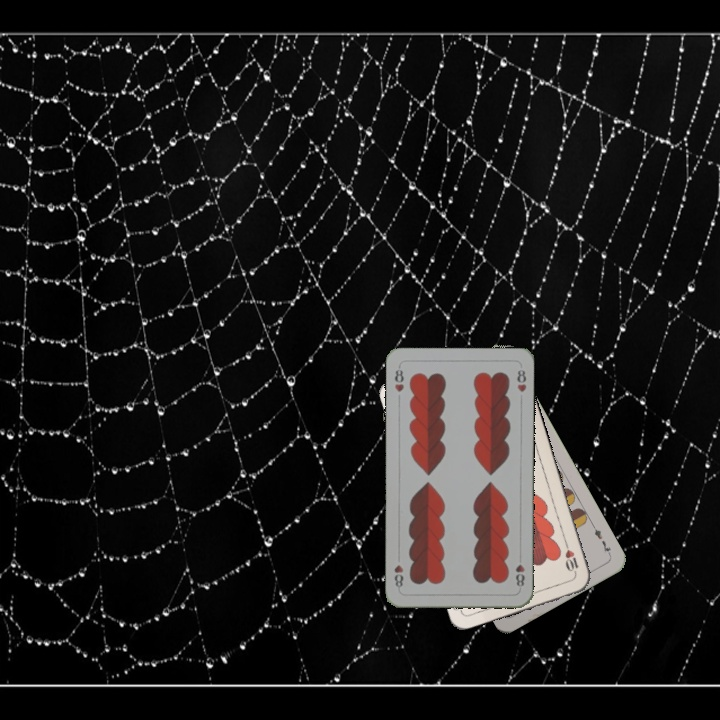E7: (589, 521, 614, 558)
H10: (561, 538, 581, 578)
H8: (512, 551, 527, 592), (391, 362, 406, 394)
